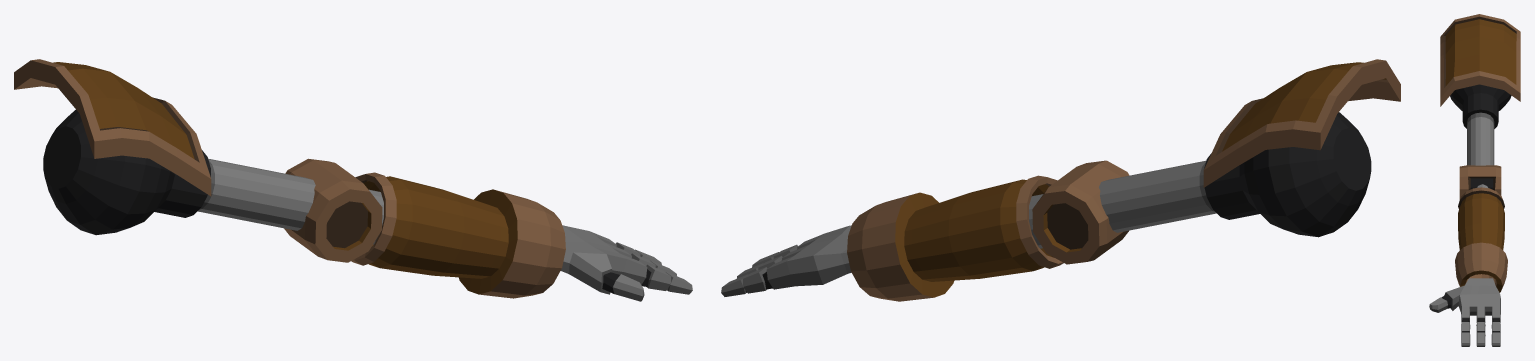
File: hand.fbx
The picture shows the model from 3 angles, left to right: view 1: azimuth 30°, elevation 25°; view 2: azimuth 150°, elevation 25°; view 3: azimuth 270°, elevation 25°; orthographic projection. The views are drawn at different scales.
Parts seen in each view (by area): view 1: hand; view 2: hand; view 3: hand.
Boxes of the visible parts, x1,y1,x2,y2 form: hand: (14, 59, 692, 301); hand: (721, 59, 1400, 301); hand: (1429, 14, 1520, 346).
Size of the model in its own units: 506 by 284 by 129.
